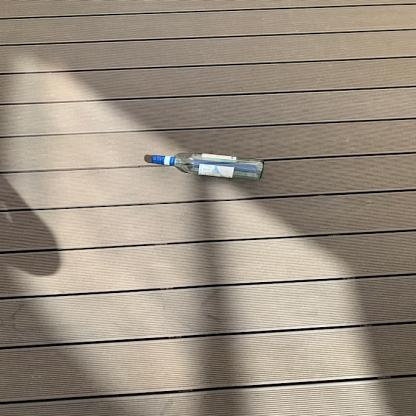trash: (141, 147, 266, 183)
